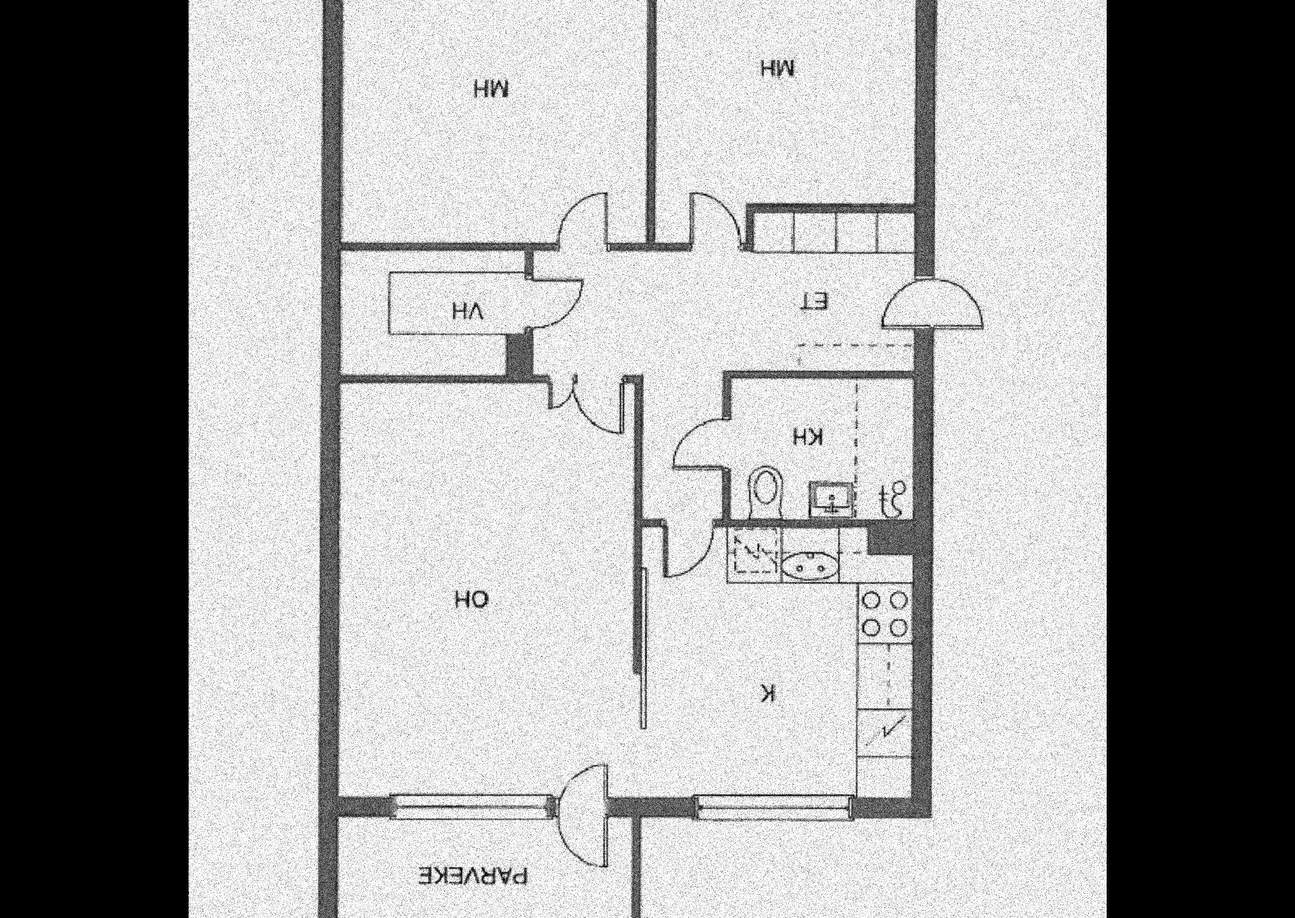door: (556, 759, 617, 872), (880, 277, 981, 338), (546, 364, 627, 432), (687, 186, 746, 256), (521, 270, 587, 327), (670, 416, 731, 475), (662, 516, 715, 583), (553, 191, 610, 249)
window: (390, 794, 549, 819), (695, 798, 846, 820)
zone: (331, 376, 914, 796), (524, 209, 920, 524), (335, 0, 646, 242), (649, 0, 915, 240), (335, 817, 631, 918), (723, 377, 910, 521), (332, 245, 525, 373)
